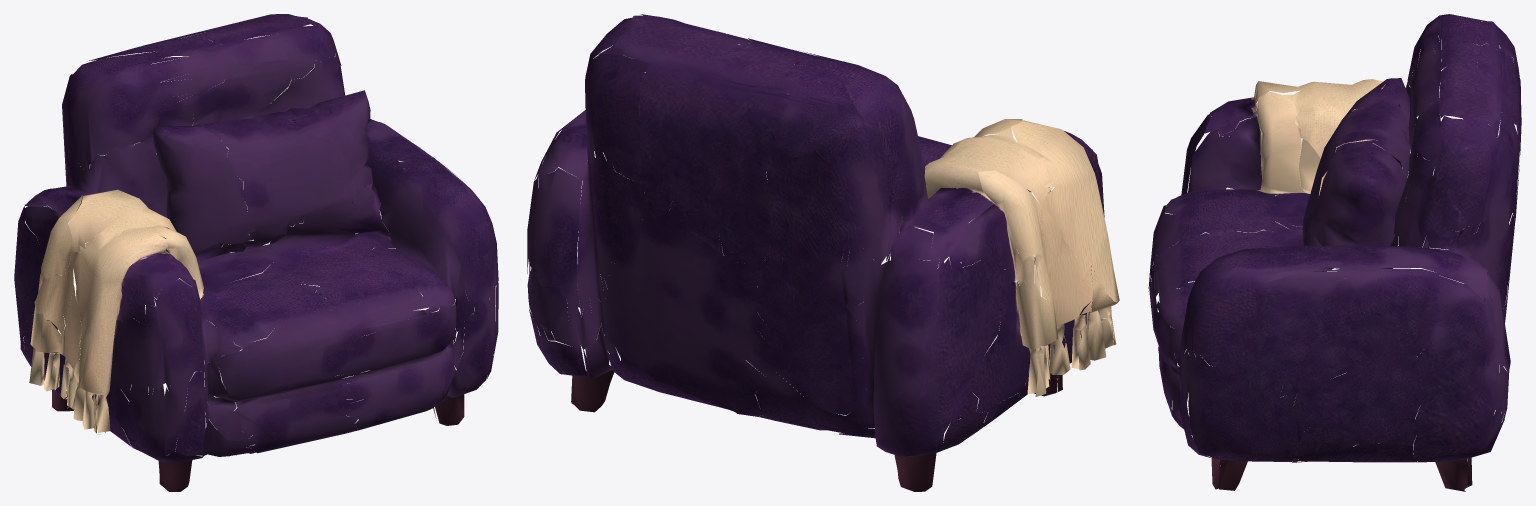
Rendered from reading_armchair.glb.
The picture shows the model from 3 angles, left to right: view 1: azimuth 30°, elevation 25°; view 2: azimuth 150°, elevation 25°; view 3: azimuth 270°, elevation 25°; orthographic projection. The views are drawn at different scales.
Parts seen in each view (by area): view 1: tripo_node_63141ab3-60a4-4c3c-aae9-89b1ae0757d1; view 2: tripo_node_63141ab3-60a4-4c3c-aae9-89b1ae0757d1; view 3: tripo_node_63141ab3-60a4-4c3c-aae9-89b1ae0757d1.
Boxes of the visible parts, left/top/right/bottom form: tripo_node_63141ab3-60a4-4c3c-aae9-89b1ae0757d1: left=14, top=14, right=498, bottom=491; tripo_node_63141ab3-60a4-4c3c-aae9-89b1ae0757d1: left=527, top=14, right=1119, bottom=491; tripo_node_63141ab3-60a4-4c3c-aae9-89b1ae0757d1: left=1148, top=14, right=1521, bottom=491.
Bounding box in the file's own units: 1.02 × 0.82 × 0.7788.
1 material, 1 textured.
